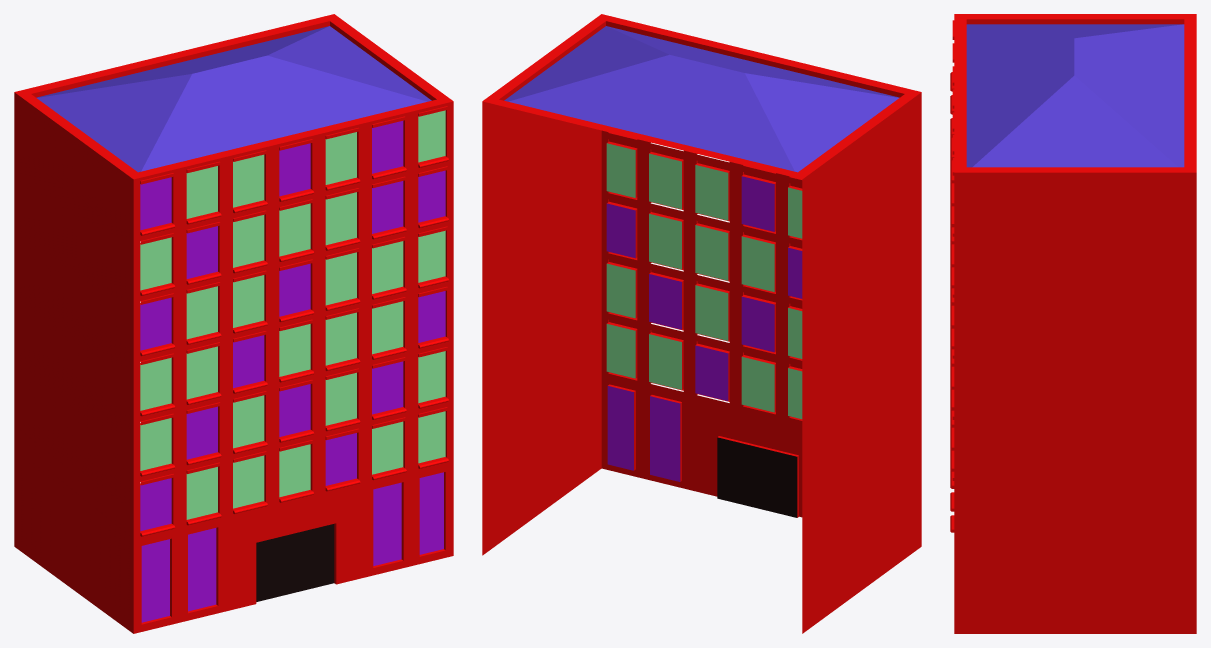
The model's file is ShortPyramid.FBX.
3 renders of one model, left to right at view 1: azimuth 30°, elevation 25°; view 2: azimuth 150°, elevation 25°; view 3: azimuth 270°, elevation 25°, orthographic.
Parts seen in each view (by area): view 1: ShortPyramid; view 2: ShortPyramid; view 3: ShortPyramid.
Boxes of the visible parts, x1,y1,x2,y2 form: ShortPyramid: [14, 14, 453, 633]; ShortPyramid: [482, 14, 921, 633]; ShortPyramid: [950, 14, 1196, 633].
Size of the model in its own units: 60.27 by 87.81 by 39.58.
